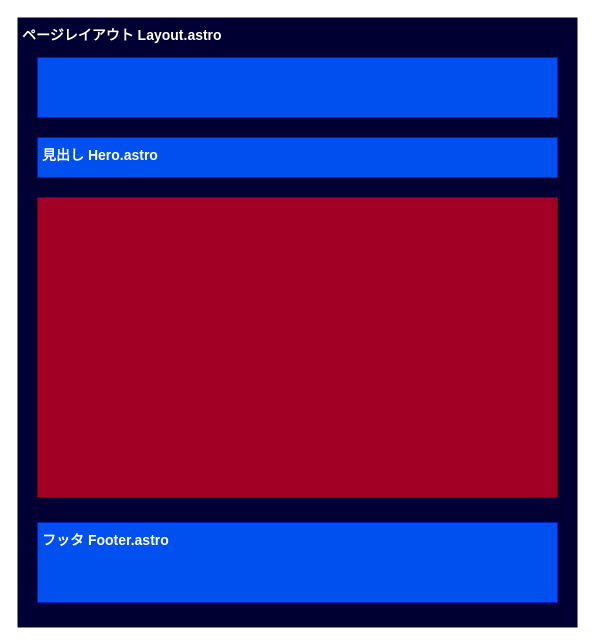
Image size: 594x644. Some labels were removed from this diagram. Each missing label, with the centre of its shape:
フォーム ContactForm.tsx: point 297,347
ヘッダ Header.astro: point 297,87
